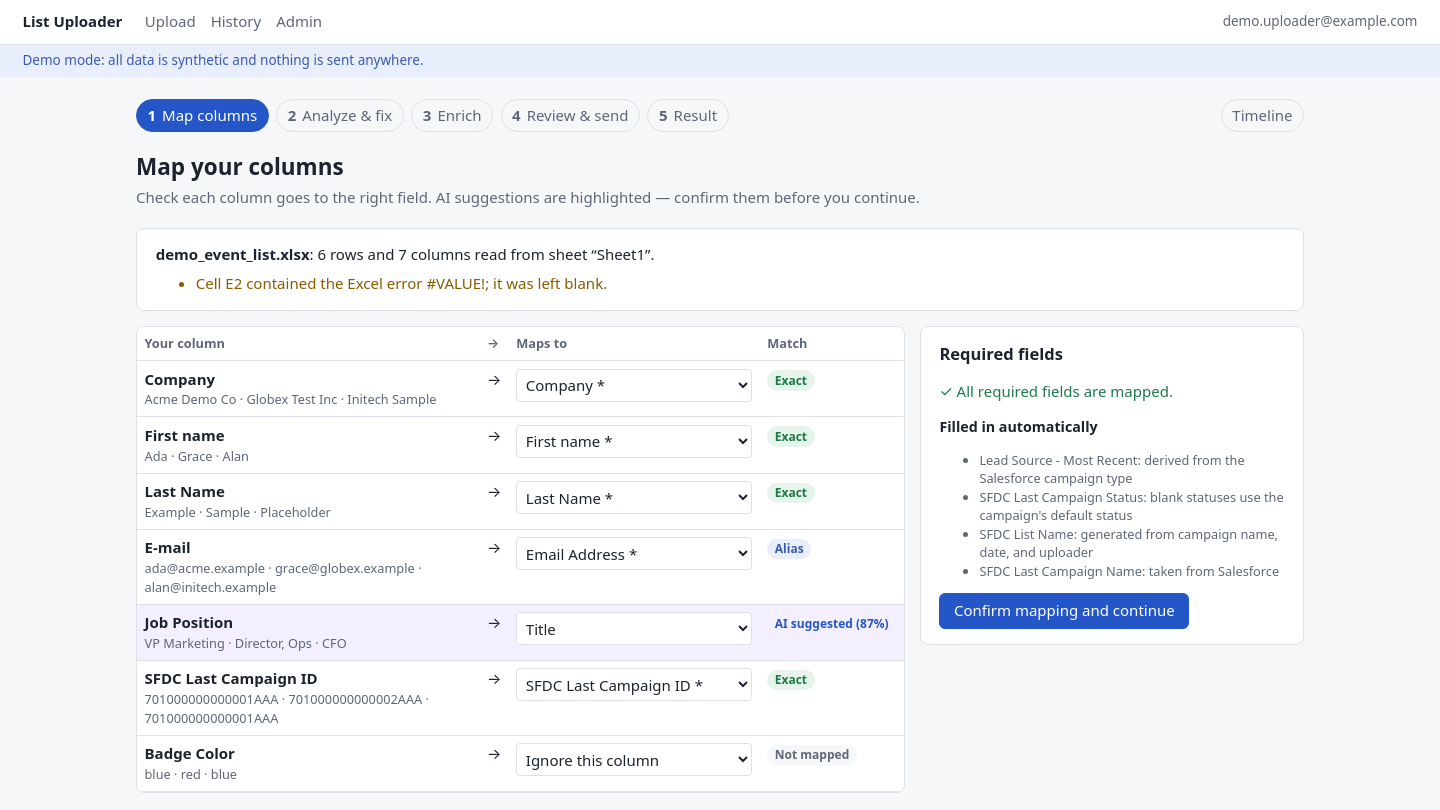
Test: mapping screen › disables confirm while a must-map field is unmapped
Step 1. Select "Ignore this column" in the dropdown named "Target for Company" → (634, 385), box x1=516 y1=369 x2=752 y2=402
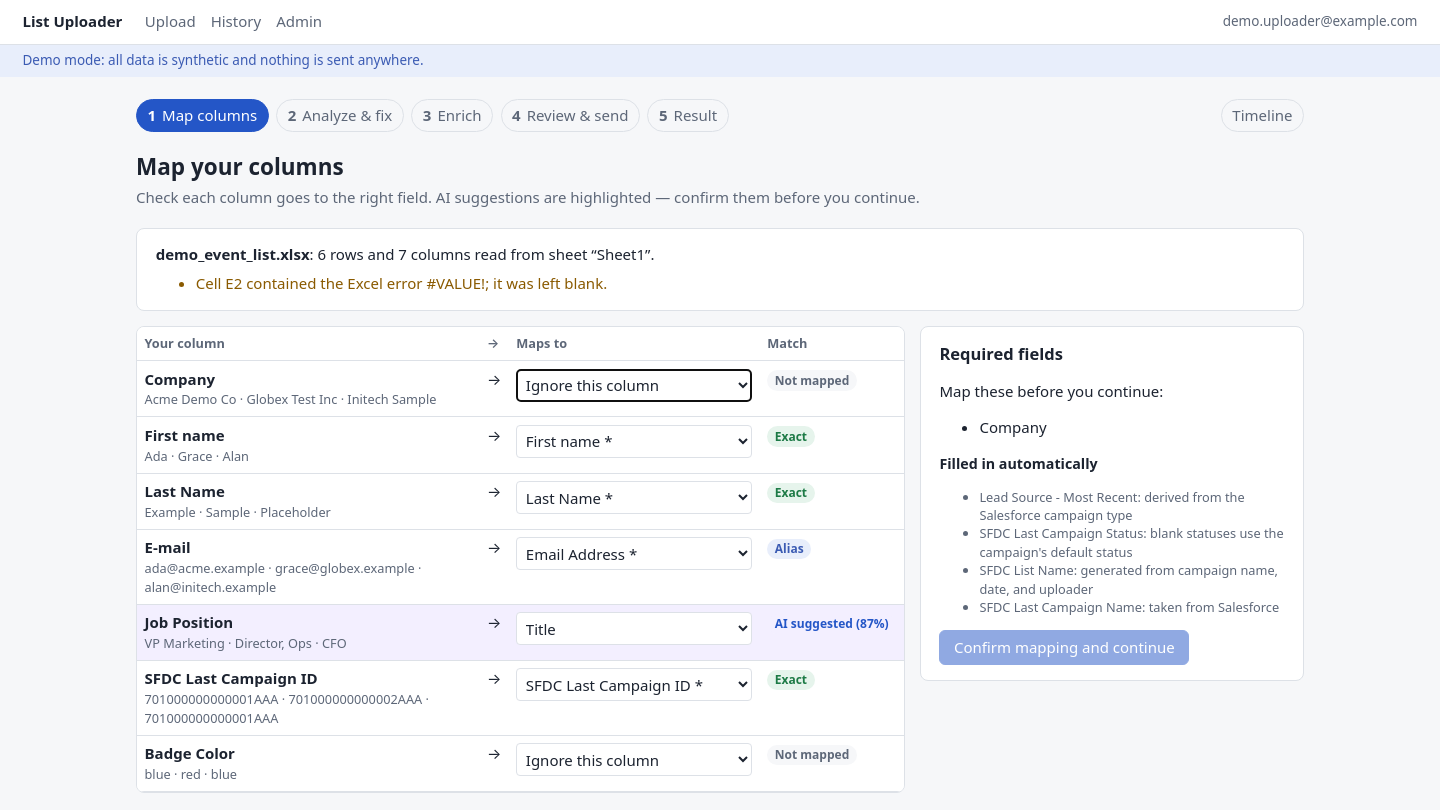
Expected: the list item "Company" is shown, x1=979 y1=417 x2=1046 y2=437
Expected: the button "Confirm mapping and continue" is disabled, x1=939 y1=630 x2=1189 y2=666
